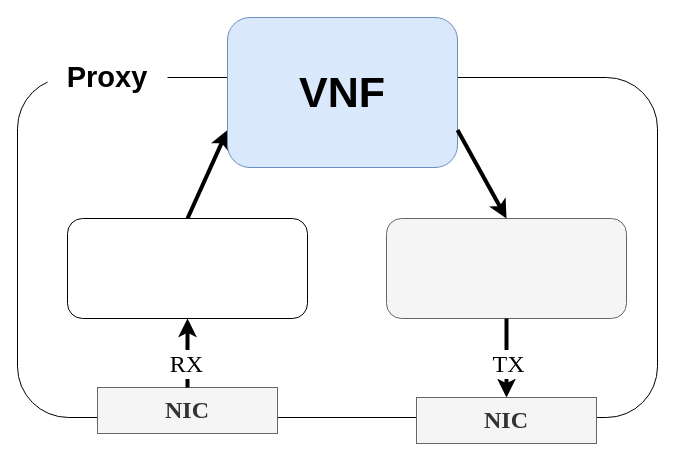
Image size: 675x461. Some labels were removed from this diagram. The shapes that lost their labels are listed below. From the top down, each one's box as (x1, y1, x2, y2) in pixels, then its label:
(66, 218, 308, 318): BPF Ingress (TC Ingress)
(386, 218, 626, 318): BPF Egress (TC Egress)
